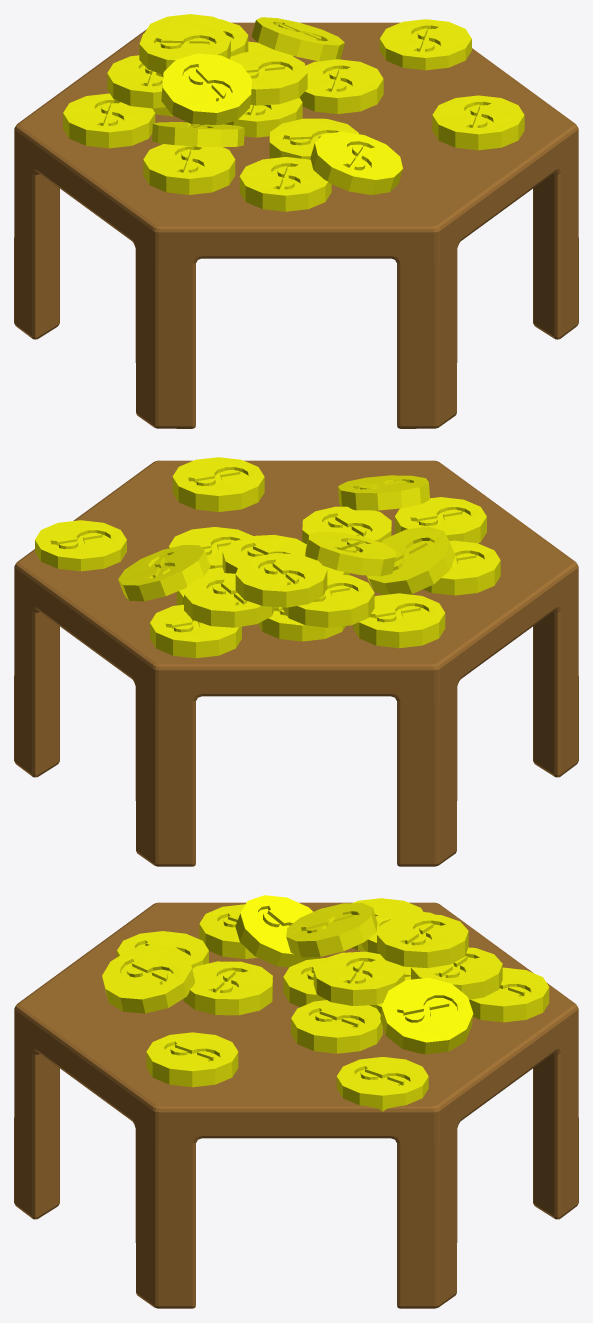
Rendered from TradeTable.fbx.
3 renders of one model, top to bottom at view 1: azimuth 30°, elevation 25°; view 2: azimuth 150°, elevation 25°; view 3: azimuth 270°, elevation 25°, orthographic.
Parts seen in each view (by area): view 1: Cylinder, Coin.013, Coin.001, Coin.008, Coin, Coin.005, Coin.011, Coin.003, Coin.016, Coin.017, Coin.009, Coin.018 (+5 smaller); view 2: Cylinder, Coin.008, Coin.017, Coin.006, Coin.011, Coin.003, Coin.018, Coin.015, Coin.014, Coin.012, Coin.013, Coin (+6 smaller); view 3: Cylinder, Coin.018, Coin.001, Coin.008, Coin.017, Coin.016, Coin.002, Coin.009, Coin.003, Coin.013, Coin.006, Coin.014 (+6 smaller).
Part boxes in pixels (x1,y1,x2,y2): Cylinder: [14, 22, 578, 428]; Coin.013: [161, 53, 252, 125]; Coin.001: [310, 131, 402, 194]; Coin.008: [432, 95, 524, 150]; Coin: [239, 157, 331, 211]; Coin.005: [143, 144, 235, 194]; Coin.011: [63, 93, 155, 148]; Coin.003: [379, 19, 471, 70]; Coin.016: [299, 59, 383, 113]; Coin.017: [139, 22, 230, 74]; Coin.009: [230, 51, 307, 105]; Coin.018: [251, 17, 344, 61]; Cylinder: [14, 460, 578, 866]; Coin.008: [172, 457, 264, 511]; Coin.017: [235, 553, 327, 607]; Coin.006: [366, 526, 455, 594]; Coin.011: [353, 593, 445, 648]; Coin.003: [35, 520, 126, 571]; Coin.018: [118, 544, 210, 601]; Coin.015: [184, 573, 275, 627]; Coin.014: [150, 604, 241, 658]; Coin.012: [282, 573, 374, 627]; Coin.013: [305, 531, 396, 576]; Coin: [395, 497, 486, 543]; Cylinder: [14, 902, 578, 1308]; Coin.018: [380, 977, 473, 1054]; Coin.001: [102, 944, 195, 1013]; Coin.008: [146, 1032, 238, 1087]; Coin.017: [377, 913, 468, 968]; Coin.016: [291, 1000, 382, 1053]; Coin.002: [183, 961, 272, 1015]; Coin.009: [313, 951, 404, 1005]; Coin.003: [336, 1057, 428, 1111]; Coin.013: [286, 903, 377, 957]; Coin.006: [235, 895, 319, 967]; Coin.014: [469, 967, 549, 1022].
Bounding box in the file's own units: 1386 × 813 × 1596.
